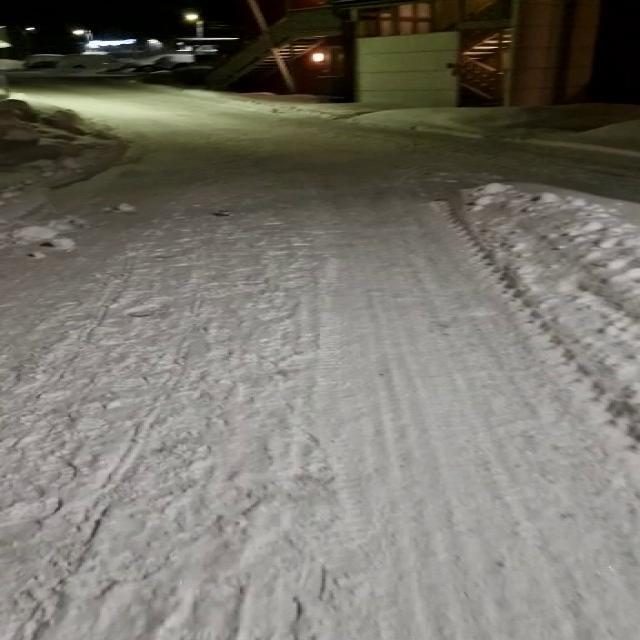path: (2, 85, 638, 640)
